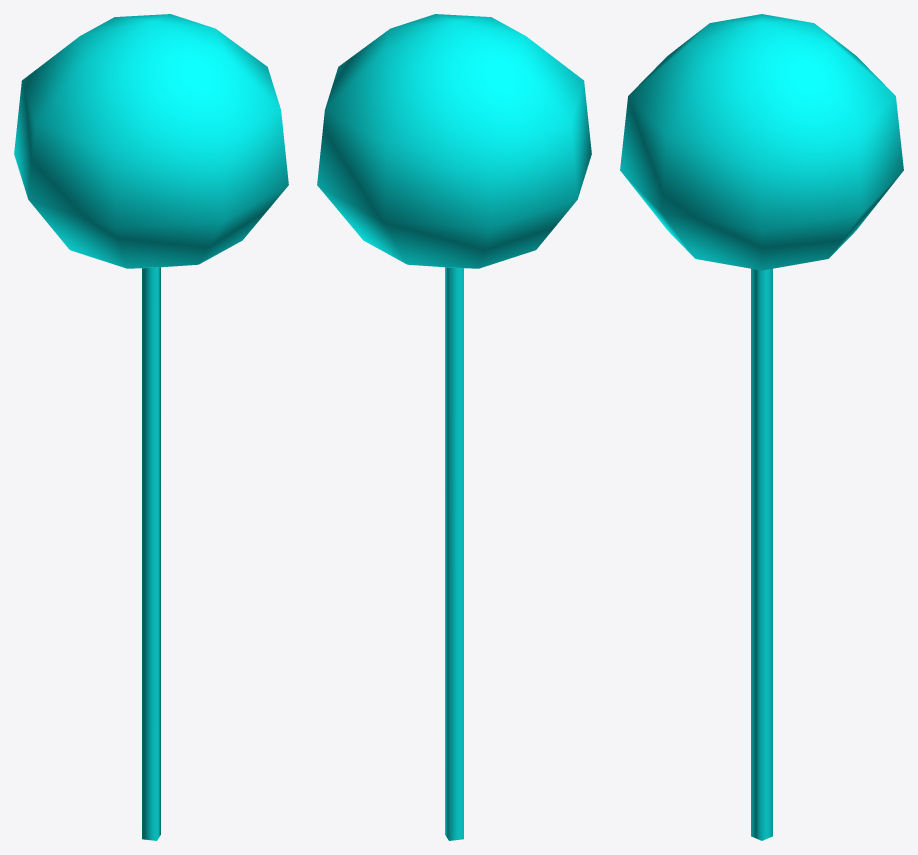
Rendered from Chupachup LP 2.fbx.
The picture shows the model from 3 angles, left to right: view 1: azimuth 30°, elevation 25°; view 2: azimuth 150°, elevation 25°; view 3: azimuth 270°, elevation 25°; orthographic projection.
Parts seen in each view (by area): view 1: Chupachup LP 2; view 2: Chupachup LP 2; view 3: Chupachup LP 2.
Part boxes in pixels (<box>): Chupachup LP 2: <box>14,14,288,840</box>; Chupachup LP 2: <box>317,14,591,840</box>; Chupachup LP 2: <box>620,14,903,840</box>.
Bounding box in the file's own units: 120 × 381 × 120.
